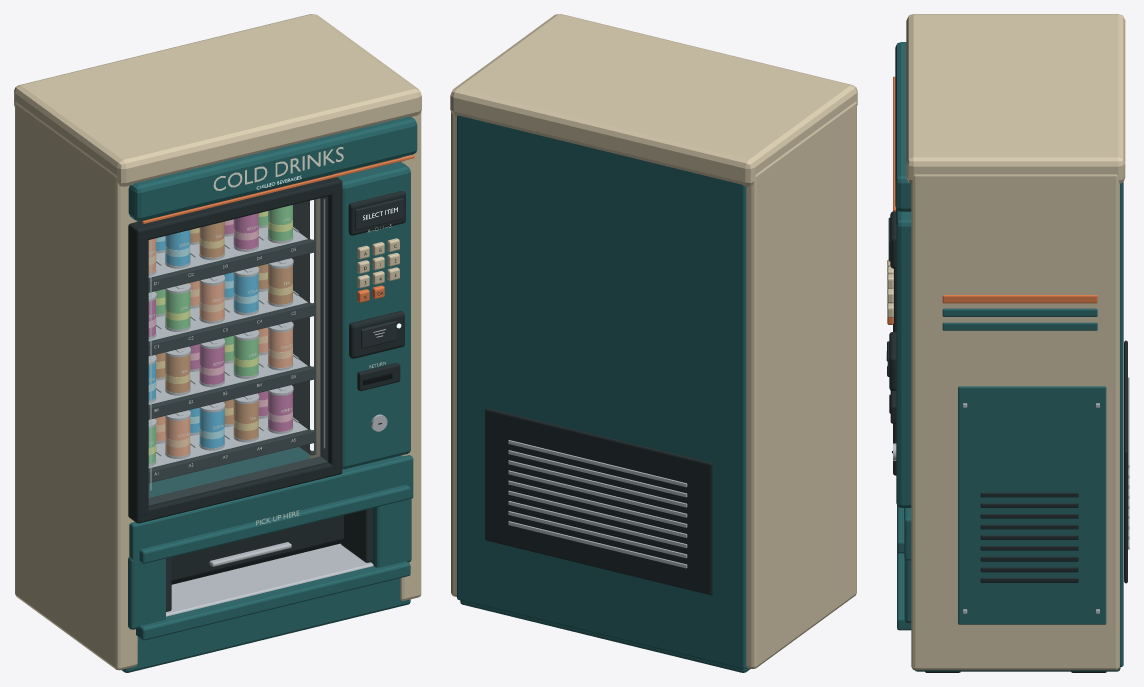
File: street-beverage-vending-machine.glb
3 views of the same model, side by side, from view 1: azimuth 30°, elevation 25°; view 2: azimuth 150°, elevation 25°; view 3: azimuth 270°, elevation 25° (orthographic).
Visible parts, largest first — view 1: Cabinet and service panels | Warm ivory powder coat, Product window and shelving | Clear protective glazing, Product window and shelving | Graphite gaskets and controls, Cabinet and service panels | Petrol blue enamel, Recessed pickup chute | Petrol blue enamel, Selection panel | Petrol blue enamel, Recessed pickup chute | Brushed stainless, Product window and shelving | Brushed stainless, Unbranded products | Brushed stainless, Recessed pickup chute | Graphite gaskets and controls, Unbranded products | Tea product wrap, Product window and shelving | Refrigerated charcoal interior (+17 smaller); view 2: Cabinet and service panels | Petrol blue enamel, Cabinet and service panels | Warm ivory powder coat, Cabinet and service panels | Graphite gaskets and controls, Cabinet and service panels | Brushed stainless; view 3: Cabinet and service panels | Warm ivory powder coat, Cabinet and service panels | Petrol blue enamel, Cabinet and service panels | Graphite gaskets and controls, Selection panel | Petrol blue enamel, Cabinet and service panels | Burnt orange powder coat, Recessed pickup chute | Petrol blue enamel, Selection panel | Graphite gaskets and controls, Cabinet and service panels | Brushed stainless, Selection panel | Warm ivory powder coat.
Part boxes in pixels (left/top/right/bottom): Cabinet and service panels | Warm ivory powder coat: left=14, top=14, right=421, bottom=670; Product window and shelving | Clear protective glazing: left=149, top=197, right=327, bottom=504; Product window and shelving | Graphite gaskets and controls: left=128, top=174, right=342, bottom=523; Cabinet and service panels | Petrol blue enamel: left=121, top=116, right=417, bottom=672; Recessed pickup chute | Petrol blue enamel: left=128, top=484, right=411, bottom=640; Selection panel | Petrol blue enamel: left=337, top=162, right=410, bottom=469; Recessed pickup chute | Brushed stainless: left=166, top=542, right=373, bottom=616; Product window and shelving | Brushed stainless: left=148, top=227, right=307, bottom=468; Unbranded products | Brushed stainless: left=148, top=224, right=293, bottom=466; Recessed pickup chute | Graphite gaskets and controls: left=171, top=515, right=343, bottom=581; Unbranded products | Tea product wrap: left=155, top=221, right=292, bottom=439; Product window and shelving | Refrigerated charcoal interior: left=292, top=199, right=316, bottom=455; Cabinet and service panels | Petrol blue enamel: left=457, top=115, right=750, bottom=672; Cabinet and service panels | Warm ivory powder coat: left=450, top=14, right=857, bottom=668; Cabinet and service panels | Graphite gaskets and controls: left=485, top=408, right=712, bottom=595; Cabinet and service panels | Brushed stainless: left=508, top=440, right=687, bottom=568; Cabinet and service panels | Warm ivory powder coat: left=906, top=14, right=1125, bottom=670; Cabinet and service panels | Petrol blue enamel: left=895, top=42, right=1123, bottom=671; Cabinet and service panels | Graphite gaskets and controls: left=925, top=340, right=1127, bottom=672; Selection panel | Petrol blue enamel: left=896, top=209, right=911, bottom=507; Cabinet and service panels | Burnt orange powder coat: left=893, top=76, right=1097, bottom=303; Recessed pickup chute | Petrol blue enamel: left=897, top=505, right=911, bottom=630; Selection panel | Graphite gaskets and controls: left=889, top=211, right=896, bottom=423; Cabinet and service panels | Brushed stainless: left=963, top=377, right=1129, bottom=613; Selection panel | Warm ivory powder coat: left=887, top=259, right=893, bottom=317.
Bounding box in the file's own units: 1.28 × 2.05 × 0.8665.
